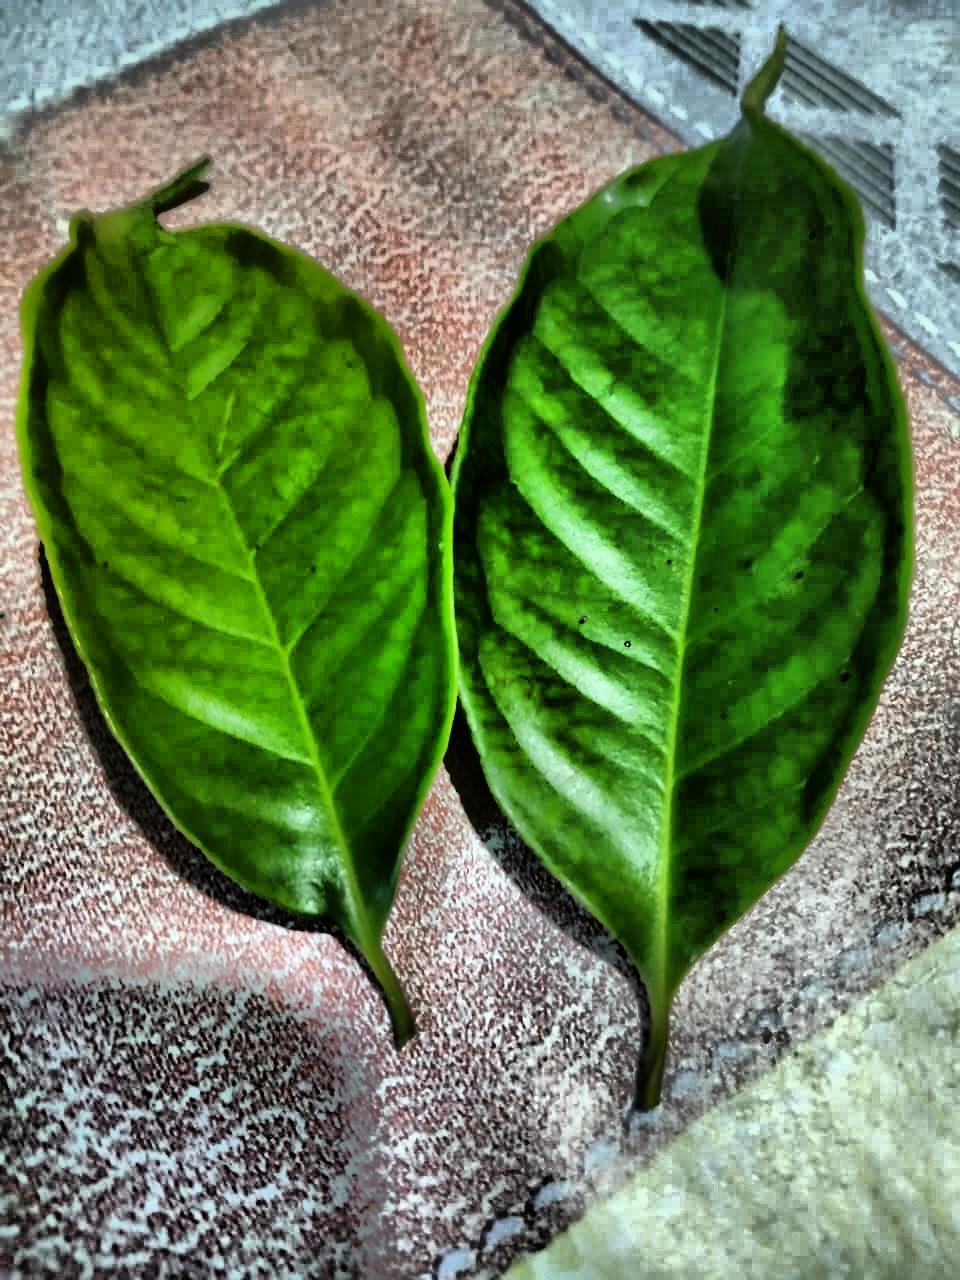daun salam: (17, 46, 909, 1101)
